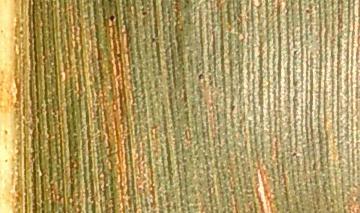tarspot: (138, 7, 150, 20), (197, 70, 205, 84), (107, 12, 117, 23)
